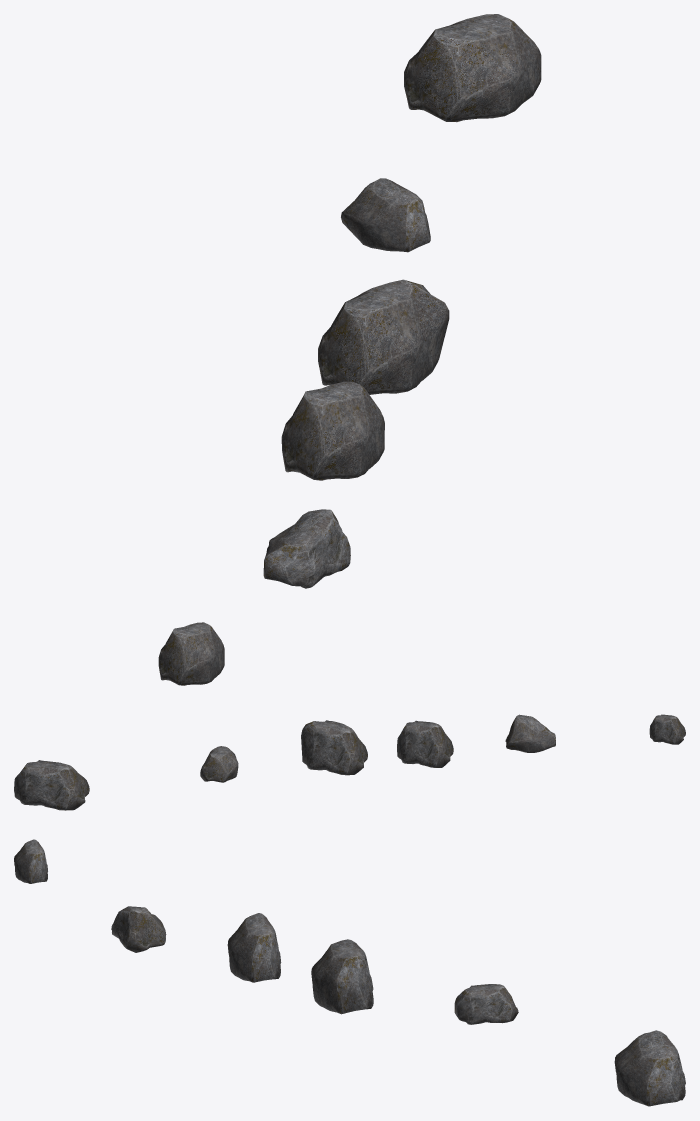
Rendered from CliffRocks.obj.
3 renders of one model, top to bottom at view 1: azimuth 30°, elevation 25°; view 2: azimuth 150°, elevation 25°; view 3: azimuth 270°, elevation 25°, orthographic. The views are drawn at different scales.
Parts seen in each view (by area): view 1: stone_big_3.006; view 2: stone_big_3.006; view 3: stone_big_3.006.
Boxes of the visible parts, <box> form: stone_big_3.006: <box>158,14,541,685</box>; stone_big_3.006: <box>14,714,685,810</box>; stone_big_3.006: <box>14,839,685,1106</box>.
Bounding box in the file's own units: 0.3622 × 0.0491 × 0.3788.
